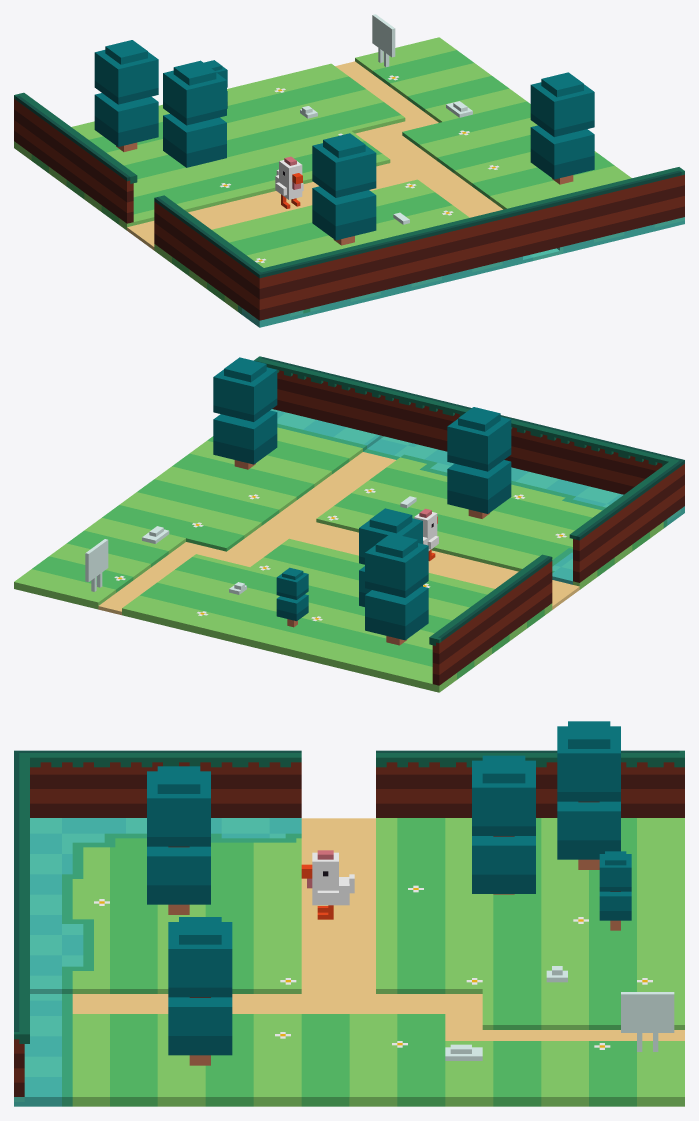
File: CrossyRoad-Scenario_reference.obj
3 views of the same model, one above another, from view 1: azimuth 30°, elevation 25°; view 2: azimuth 150°, elevation 25°; view 3: azimuth 270°, elevation 25° (orthographic). The views are drawn at different scales.
Size of the model in its own units: 126 by 30 by 126.
1 material, 1 textured.
